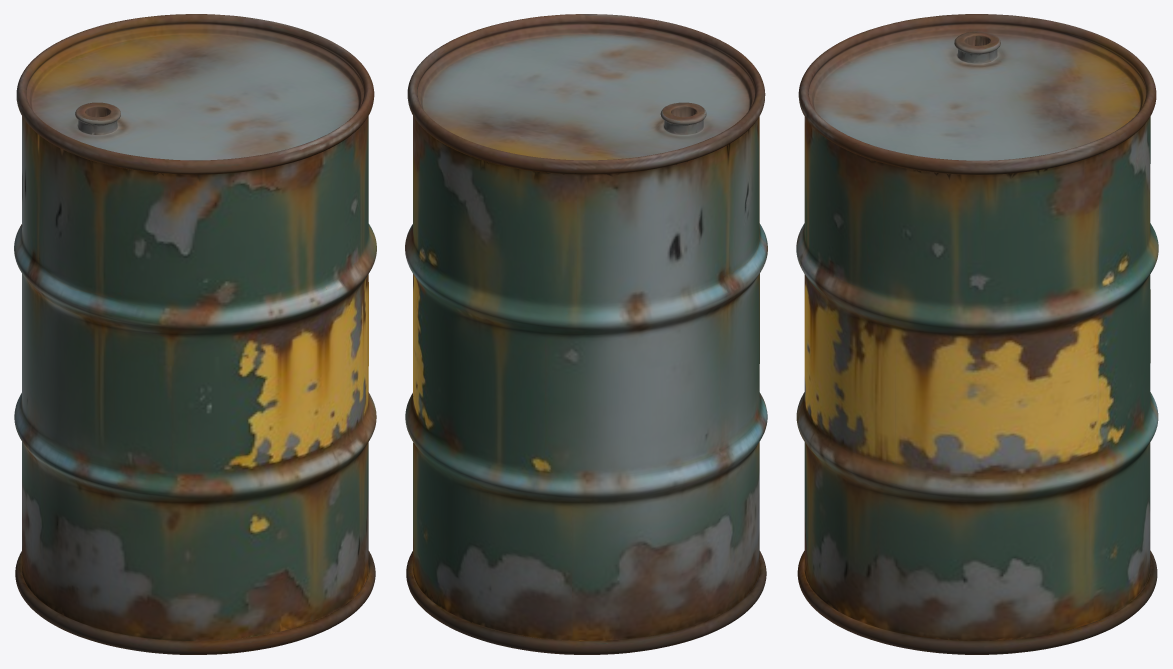
File: prop_barrel_b.glb
The picture shows the model from 3 angles, left to right: view 1: azimuth 30°, elevation 25°; view 2: azimuth 150°, elevation 25°; view 3: azimuth 270°, elevation 25°; orthographic projection.
Visible parts, largest first — view 1: node_0; view 2: node_0; view 3: node_0.
Boxes of the visible parts, x1,y1,x2,y2 form: node_0: (14,14,376,654); node_0: (405,14,767,654); node_0: (796,14,1158,654).
Size of the model in its own units: 0.6715 by 1.01 by 0.6714.
Materials: 1 (1 with a texture image).
